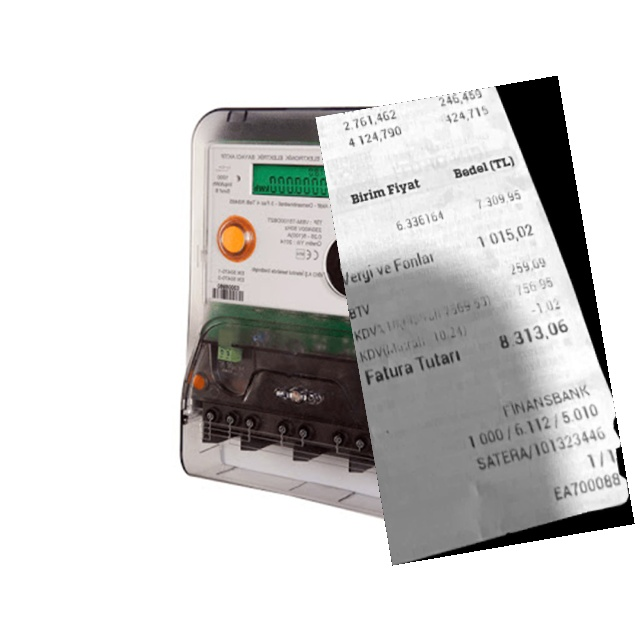electricity-bill: (314, 75, 634, 565)
